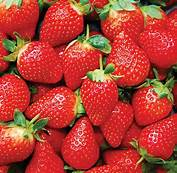Fresa: (103, 31, 155, 91), (23, 83, 83, 131), (59, 33, 105, 94), (15, 38, 67, 89), (59, 113, 102, 172), (79, 66, 120, 127), (37, 1, 88, 49), (98, 1, 149, 45), (135, 110, 177, 163), (131, 78, 174, 128), (1, 118, 38, 167), (1, 1, 42, 43)
